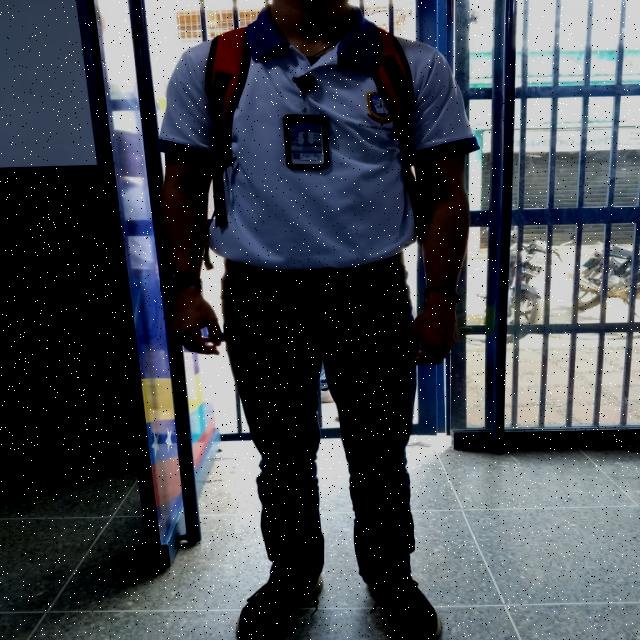carnet: (288, 123, 324, 164)
pantalon_oscuro: (222, 269, 417, 579)
uniforme_superior: (157, 3, 479, 269)
